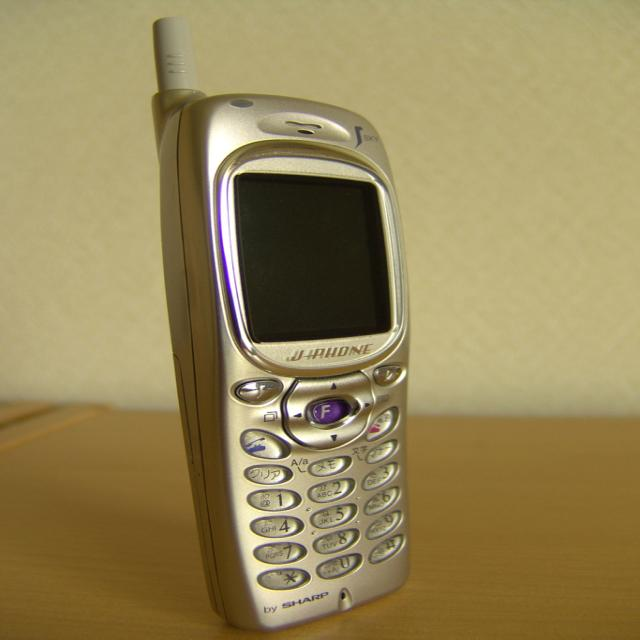Mobile phone: (144, 53, 428, 636)
